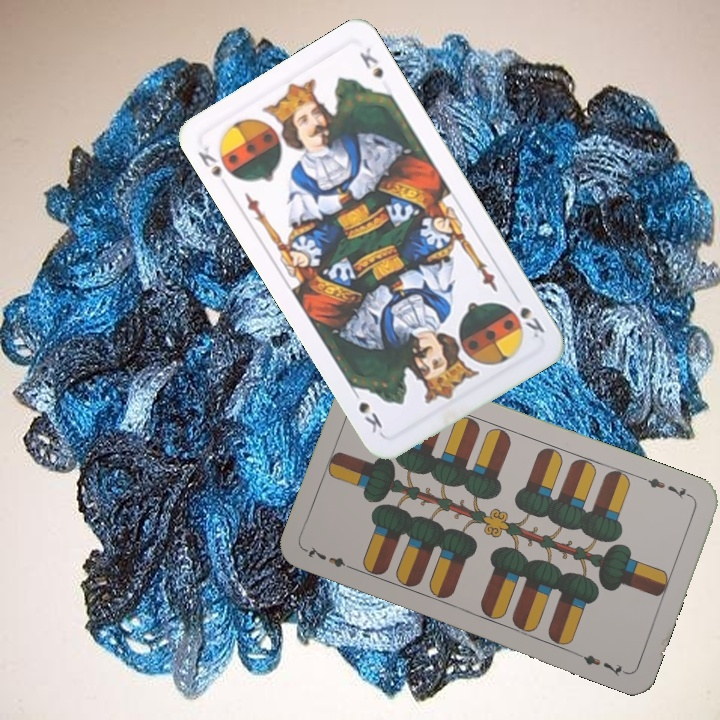E7: (302, 542, 359, 574), (638, 473, 695, 502)
SK: (508, 288, 548, 341), (194, 142, 224, 180)
